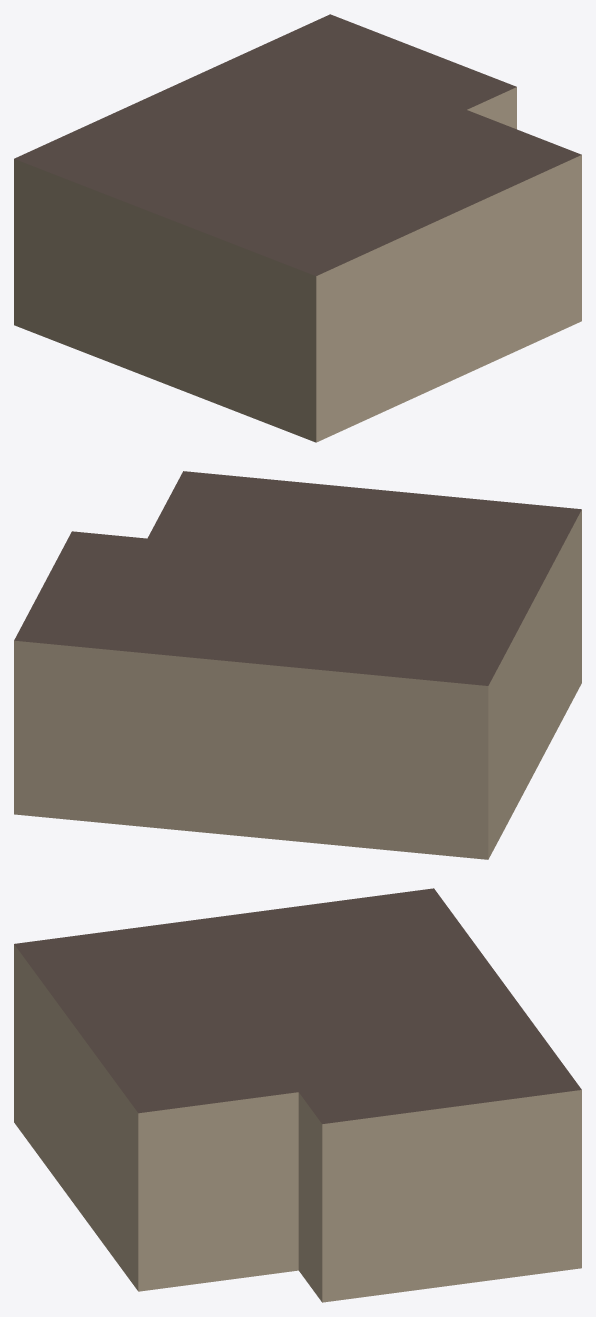
3 views of the same model, one above another, from view 1: azimuth 30°, elevation 25°; view 2: azimuth 150°, elevation 25°; view 3: azimuth 270°, elevation 25° (orthographic). The views are drawn at different scales.
Parts seen in each view (by area): view 1: HP-w679060029; view 2: HP-w679060029; view 3: HP-w679060029.
Part boxes in pixels (left/top/right/bottom): HP-w679060029: left=14, top=14, right=581, bottom=442; HP-w679060029: left=14, top=471, right=581, bottom=859; HP-w679060029: left=14, top=888, right=581, bottom=1302.
Bounding box in the file's own units: 25.52 × 9 × 25.97.
